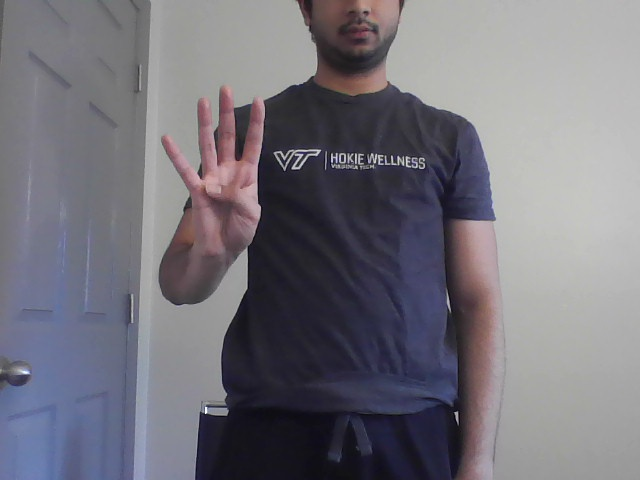four: (155, 81, 268, 251)
